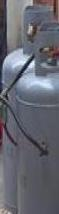cylinder: (0, 1, 59, 214)
